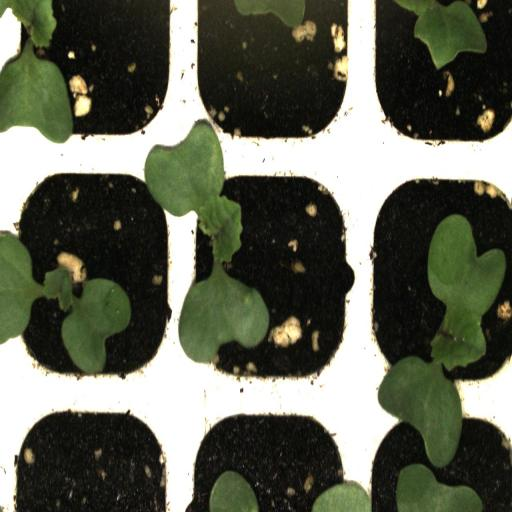Folha: (393, 0, 487, 69), (233, 0, 305, 46), (209, 470, 259, 512), (311, 482, 372, 512)
Germinacao: (5, 160, 189, 391), (188, 160, 362, 393), (364, 154, 512, 398), (6, 0, 184, 159)
